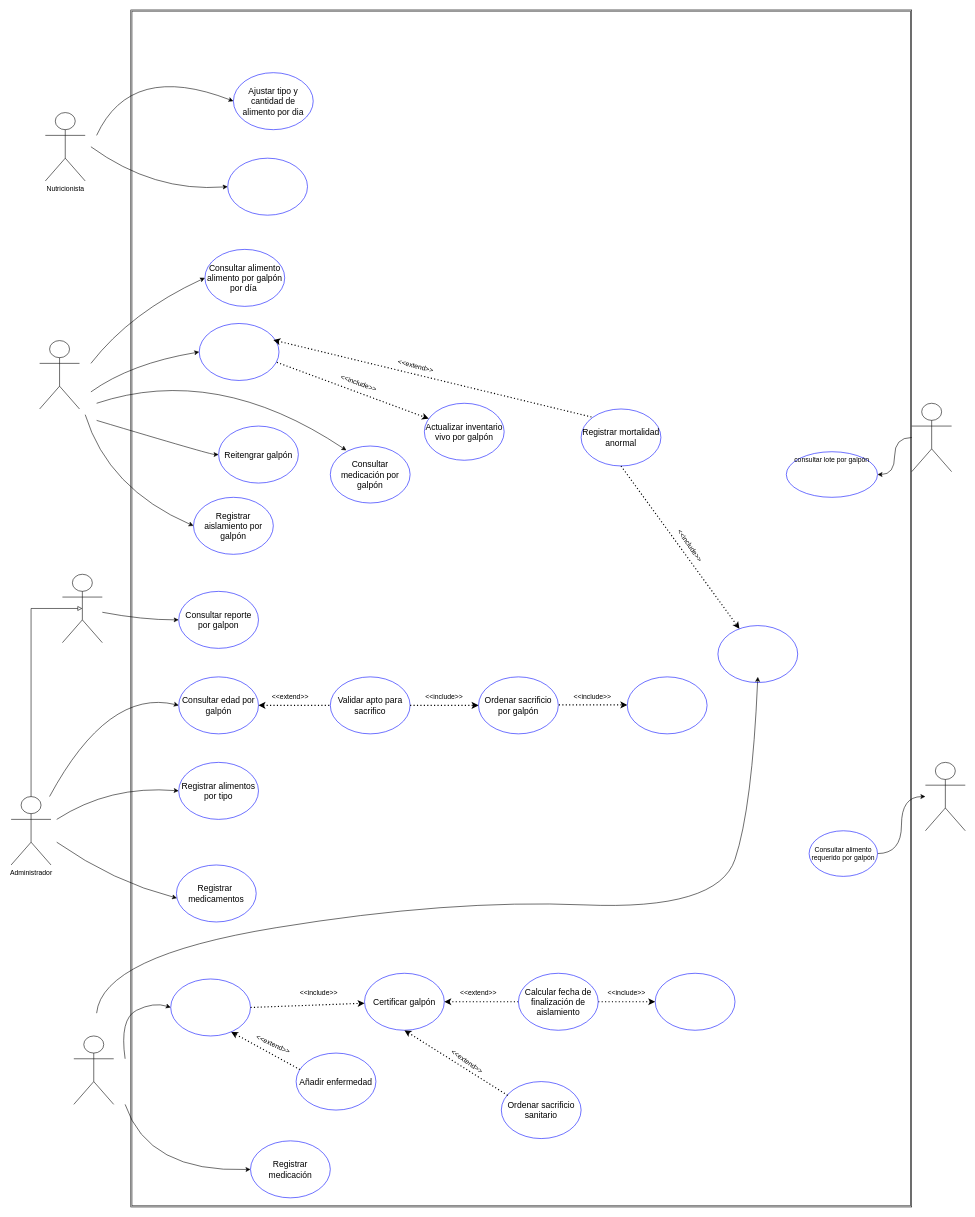
The diagram is 975 pixels wide and 1217 high, and some of its shapes have lost their labels. The shapes that lost their labels are listed below. From the top down, each one's centre as x and y in pixels, then its label:
At pixel 267 186: "Cambiar alimento de galpón".
At pixel 239 351: "Registrar mortalidad por galpón".
At pixel 59 374: "Trabajador".
At pixel 931 437: "Modulo 1".
At pixel 82 608: "Usuario".
At pixel 757 654: "Generar alerta sanitaria".
At pixel 667 705: "Registrar peso de pollos finales".
At pixel 945 796: "Modulo 3".
At pixel 210 1007: "Validar aislamiento".
At pixel 695 1001: "Alertar fecha de reintregro por galpón".
At pixel 93 1069: "Veterinario".
